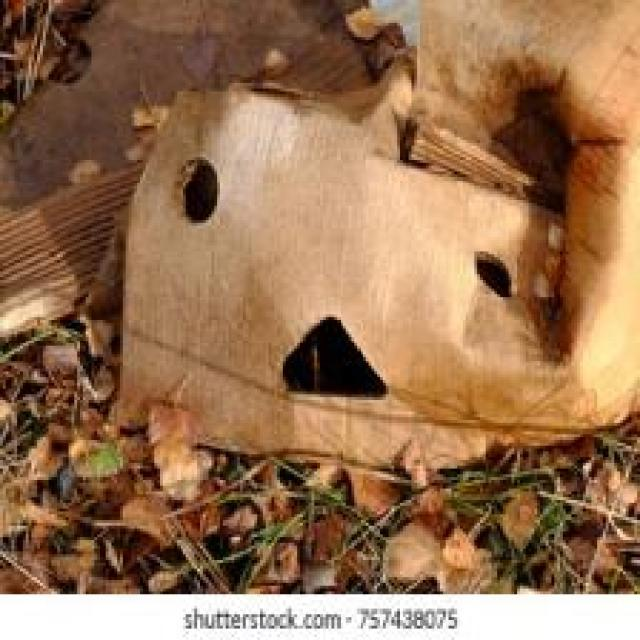crushed: (513, 66, 611, 359)
